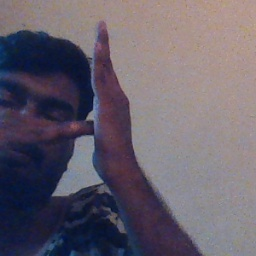Z: (30, 20, 142, 194)
